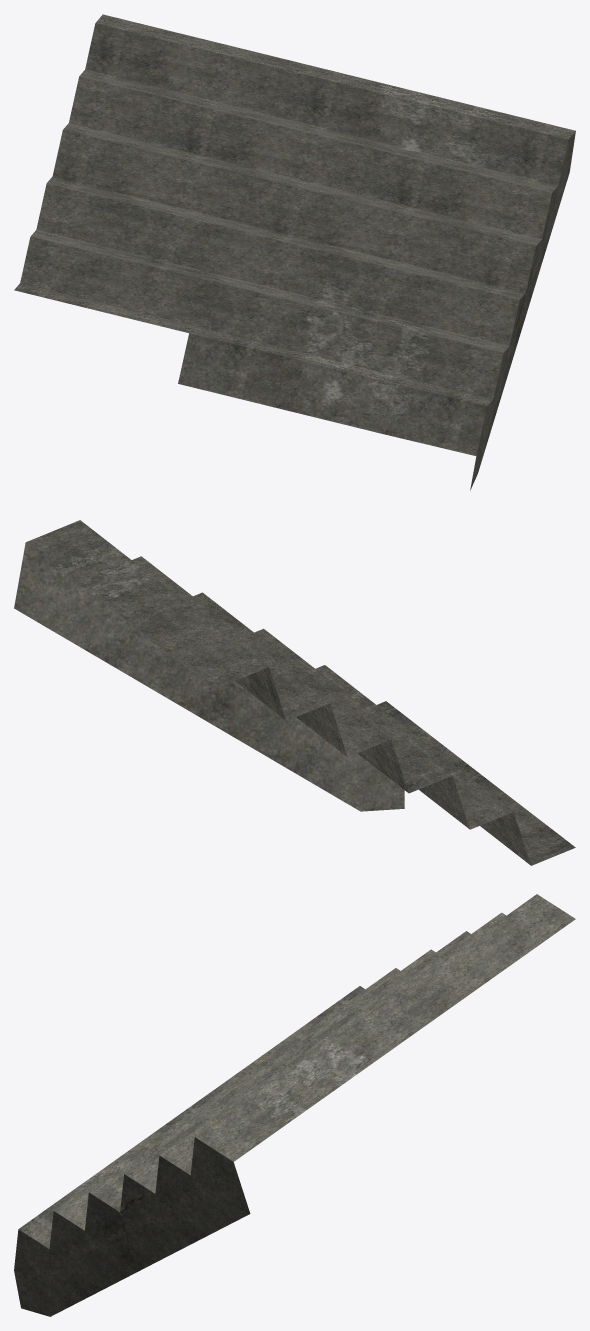
The model's file is Prop_debris_02.fbx.
3 views of the same model, one above another, from view 1: azimuth 30°, elevation 25°; view 2: azimuth 150°, elevation 25°; view 3: azimuth 270°, elevation 25° (orthographic). The views are drawn at different scales.
Parts seen in each view (by area): view 1: Cylinder_032; view 2: Cylinder_032; view 3: Cylinder_032.
Part boxes in pixels (x1,y1,x2,y2): Cylinder_032: [14, 14, 575, 490]; Cylinder_032: [14, 520, 575, 865]; Cylinder_032: [14, 894, 575, 1316].
Size of the model in its own units: 11.98 by 7.35 by 10.84.
